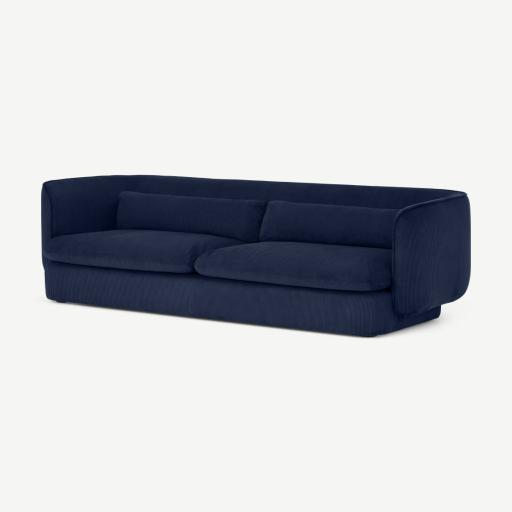back_cushion: (118, 176, 442, 248)
base: (45, 261, 440, 336)
left_arm: (391, 193, 470, 316)
right_arm: (42, 177, 125, 241)
seat_cushion: (43, 230, 391, 290)
two-seater: (0, 0, 511, 512)
